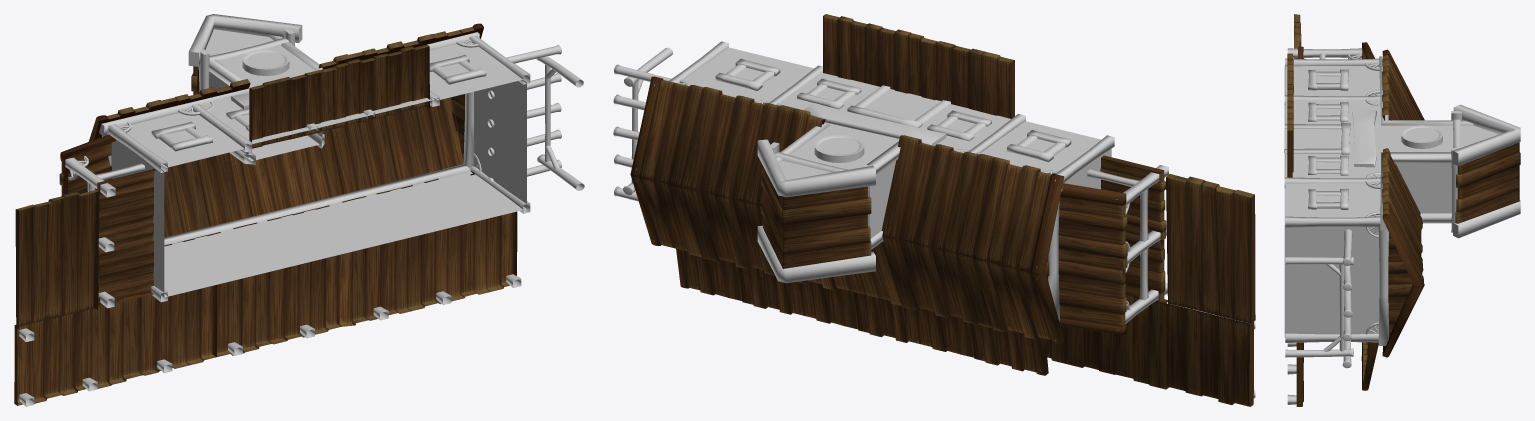
Rendered from Train_Station.FBX.
3 renders of one model, left to right at view 1: azimuth 30°, elevation 25°; view 2: azimuth 150°, elevation 25°; view 3: azimuth 270°, elevation 25°, orthographic. The views are drawn at different scales.
Parts seen in each view (by area): view 1: Station_Building, Station_ground01, Station_roof01, Station_Ground_Entrance, Station_ground03, Station_ground02, Station_Wall03, Station_no_col, Station_Wall01; view 2: Station_roof01, Station_Building, Station_ground01, Station_roof02, Station_ground03, Station_Ground_Entrance, Station_ground02, Station_Wall01, Station_Wall03; view 3: Station_Building, Station_roof01, Station_Wall03, Station_no_col, Station_Ground_Entrance, Station_Wall01, Station_roof02, Station_ground01, Station_ground03.
Part boxes in pixels (x1=…): Station_Building: x1=99, y1=14, x2=530, y2=302; Station_ground01: x1=14, y1=211, x2=517, y2=405; Station_roof01: x1=59, y1=23, x2=483, y2=237; Station_Ground_Entrance: x1=249, y1=44, x2=429, y2=151; Station_ground03: x1=15, y1=190, x2=99, y2=328; Station_ground02: x1=97, y1=169, x2=156, y2=306; Station_Wall03: x1=487, y1=45, x2=584, y2=190; Station_no_col: x1=19, y1=39, x2=521, y2=406; Station_Wall01: x1=65, y1=157, x2=115, y2=308; Station_roof01: x1=630, y1=76, x2=1127, y2=343; Station_Building: x1=669, y1=41, x2=1114, y2=321; Station_ground01: x1=1045, y1=294, x2=1253, y2=406; Station_roof02: x1=676, y1=248, x2=1048, y2=375; Station_ground03: x1=1166, y1=174, x2=1255, y2=323; Station_Ground_Entrance: x1=823, y1=14, x2=1014, y2=118; Station_ground02: x1=1100, y1=155, x2=1166, y2=302; Station_Wall01: x1=1123, y1=165, x2=1168, y2=323; Station_Wall03: x1=613, y1=47, x2=672, y2=201; Station_Building: x1=1284, y1=56, x2=1520, y2=345; Station_roof01: x1=1362, y1=42, x2=1520, y2=357; Station_Wall03: x1=1285, y1=229, x2=1353, y2=368; Station_no_col: x1=1287, y1=54, x2=1380, y2=404; Station_Ground_Entrance: x1=1287, y1=53, x2=1293, y2=177; Station_Wall01: x1=1287, y1=48, x2=1362, y2=59; Station_roof02: x1=1361, y1=342, x2=1378, y2=390; Station_ground01: x1=1296, y1=342, x2=1303, y2=406; Station_ground03: x1=1294, y1=14, x2=1301, y2=58.
Size of the model in its own units: 25.11 by 11.28 by 10.07.
